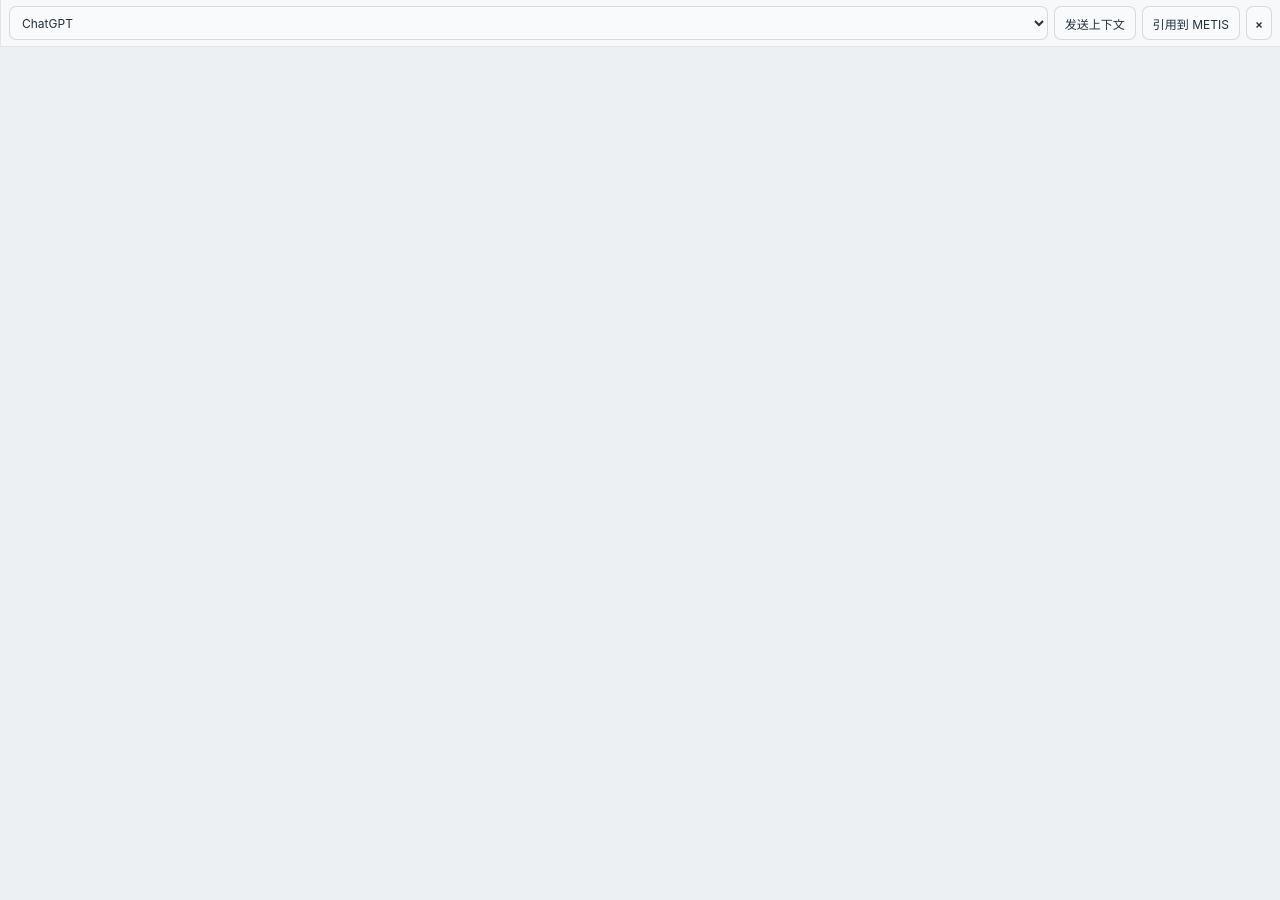
Test: ChatbotCollabPanel Context Bridge › falls back to the clipboard when direct selection capture fails, with an honest notice
This screenshot has width=1280, height=900.
Click the button with test id "chatbot-cite-selection" at (1191, 23), box [1142,6,1240,40]
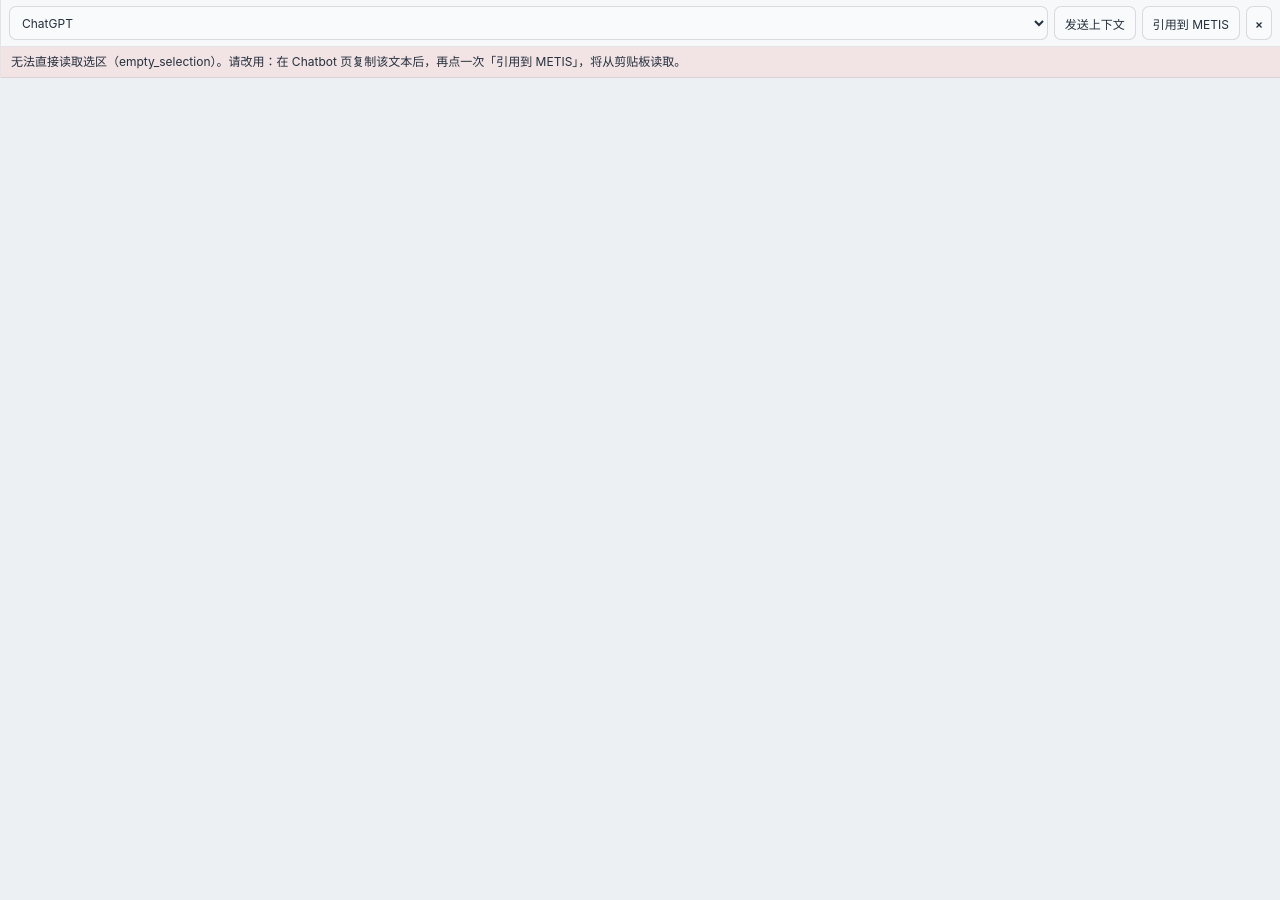
Now the message with test id "chatbot-bridge-notice" shows "剪贴板", box [1,47,1279,78]
第二次点击直接读剪贴板 → 确认卡带剪贴板内容。
Click the button with test id "chatbot-cite-selection" at (1191, 23), box [1142,6,1240,40]
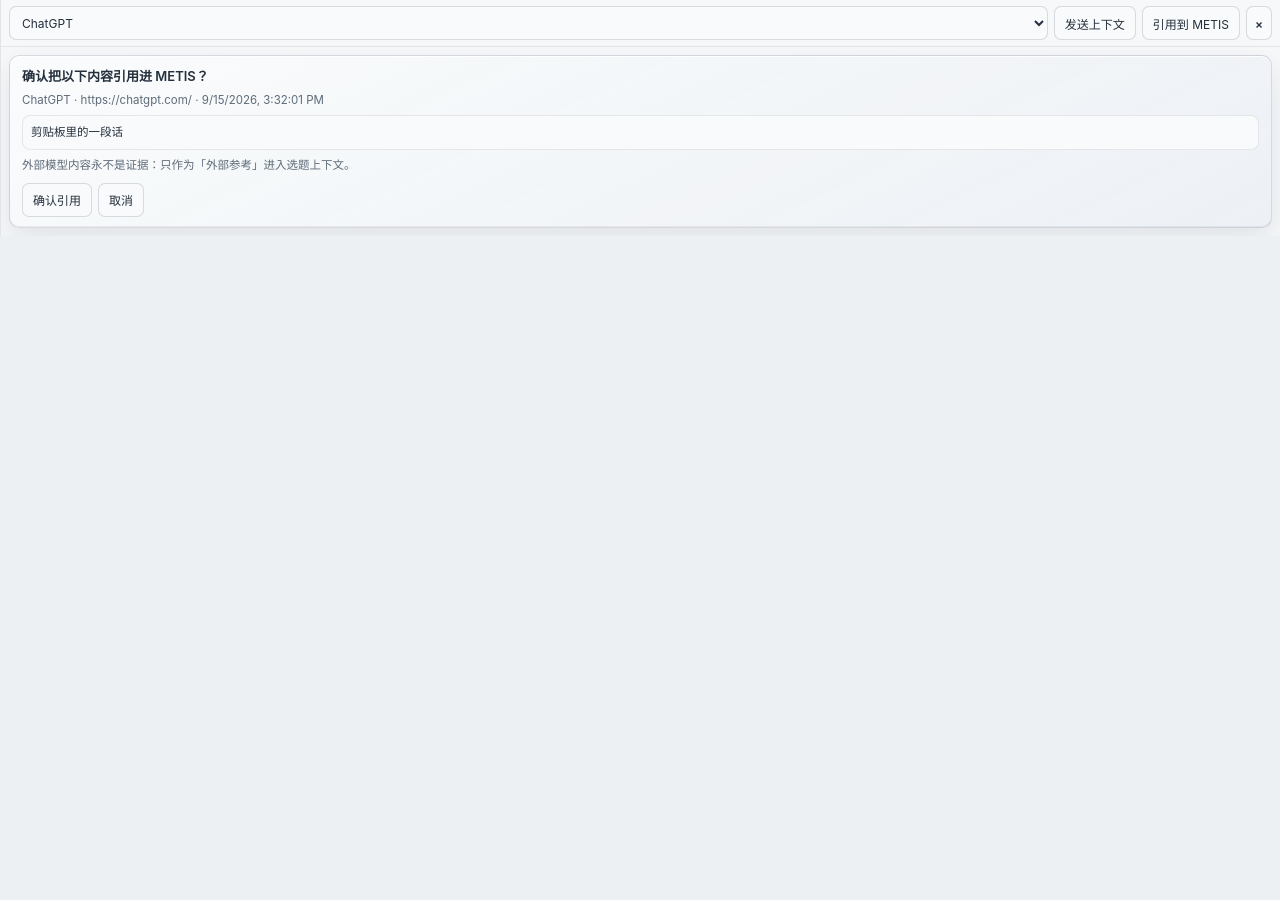
Now the dialog with test id "chatbot-confirm-card" shows "剪贴板里的一段话", box [31,125,123,139]
